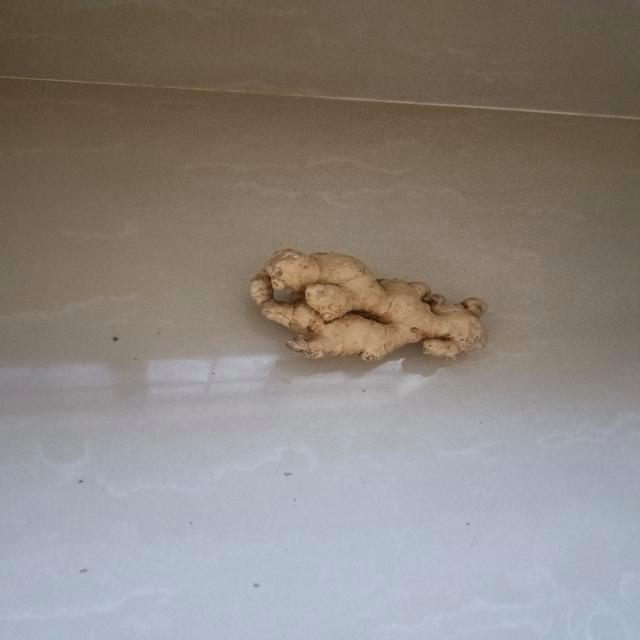ginger: (244, 246, 491, 368)
